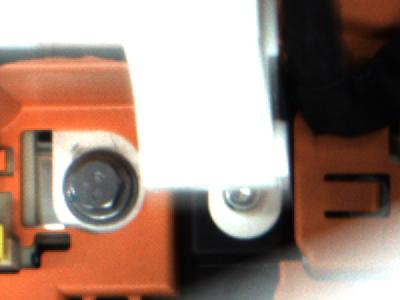nut_b: (60, 151, 137, 226)
